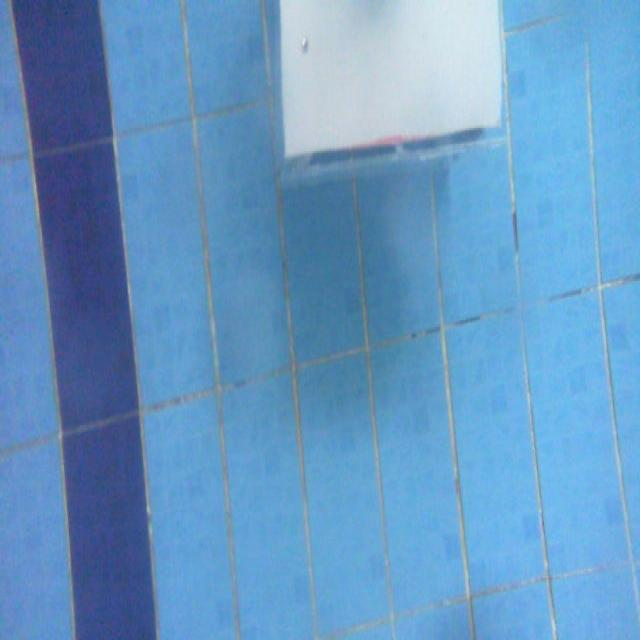Cuboid: (275, 0, 505, 162)
